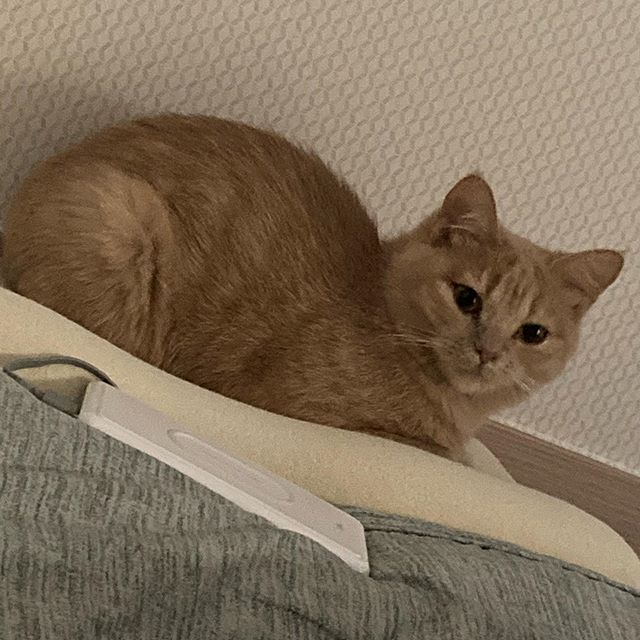cat: (389, 173, 627, 416)
